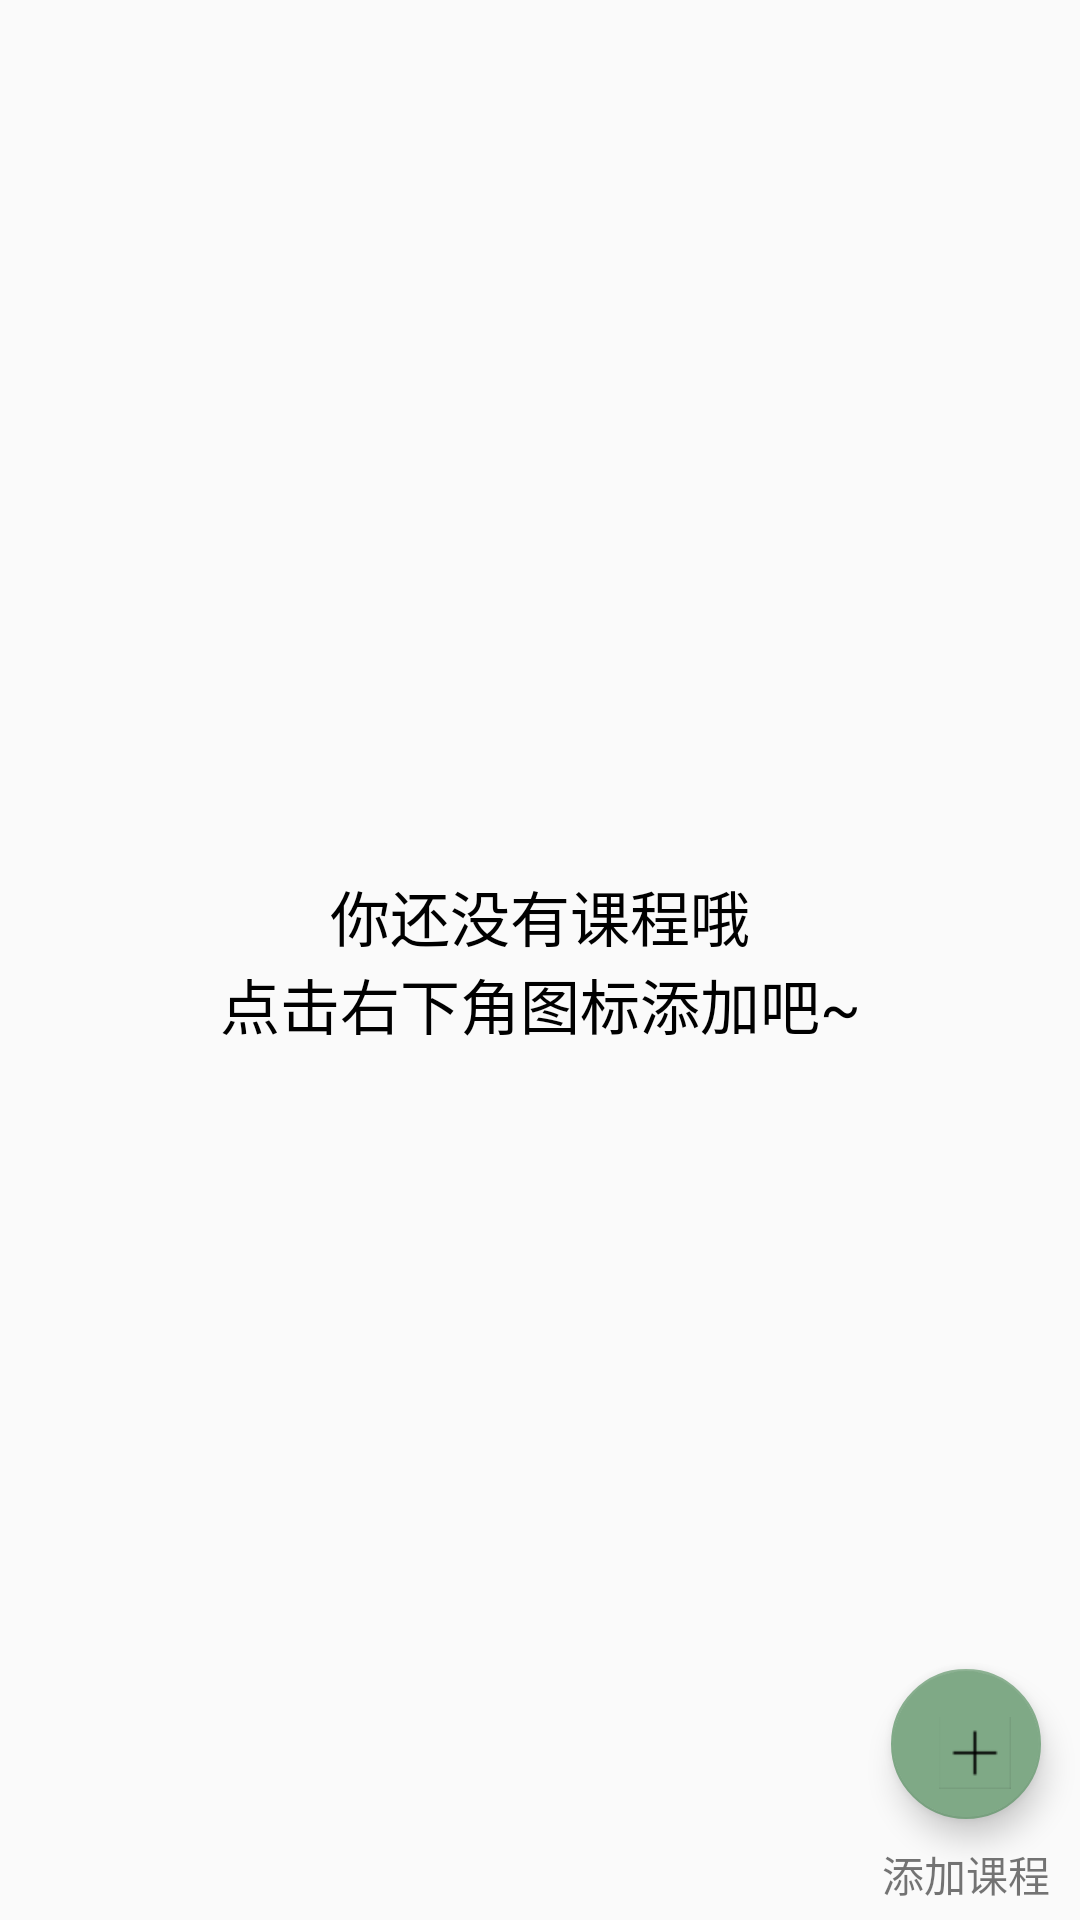

Icon click points for this 1080*1920 phone screenshot, format [x,y]:
plus: [966,1744]
